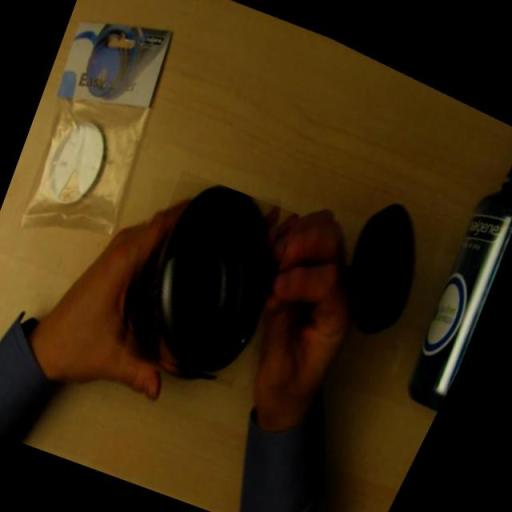bottle: (124, 166, 306, 386)
